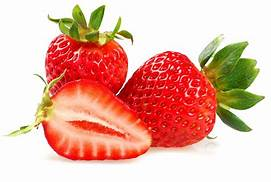Fresa: (116, 49, 222, 150), (39, 77, 158, 164), (43, 29, 131, 97)
